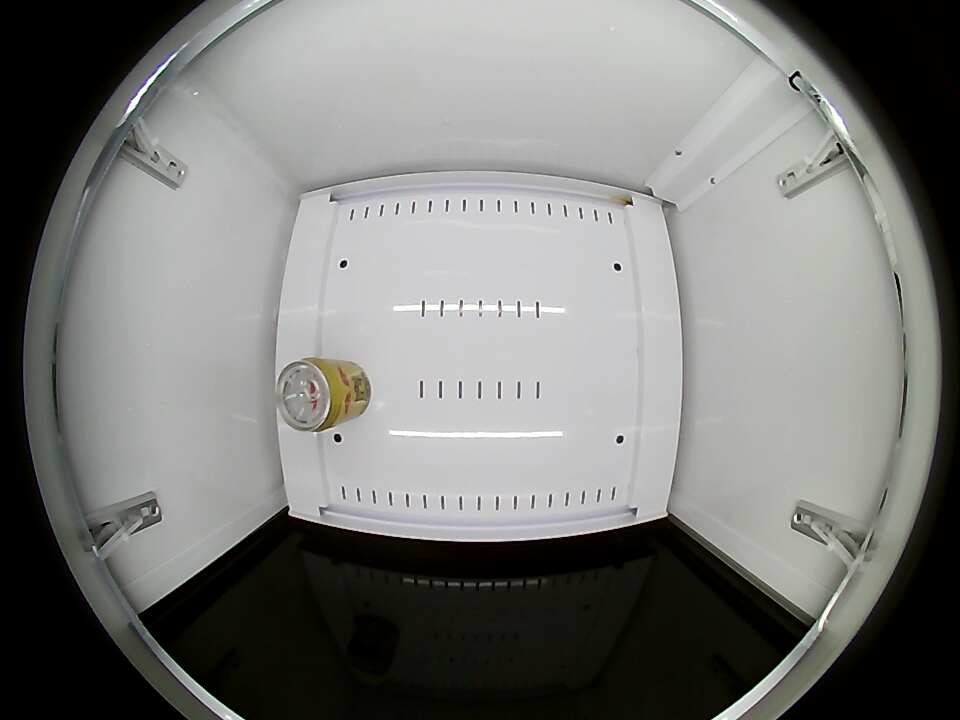hongniu2: (277, 357, 349, 433)
